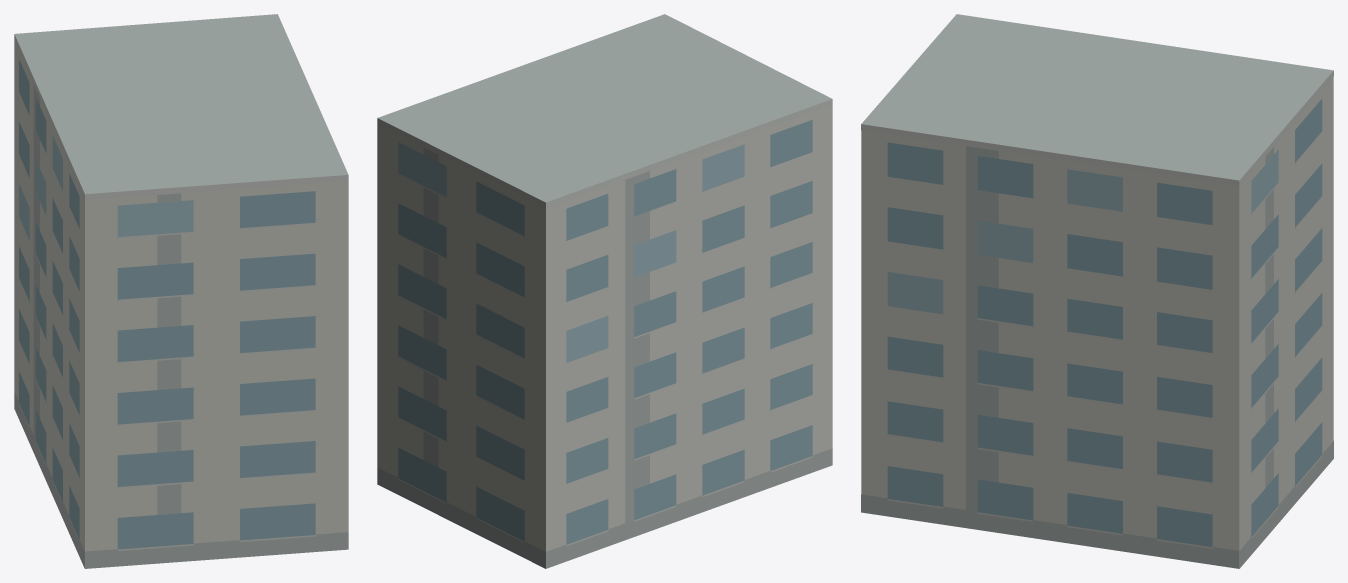
The model's file is survey-upis-32888437.glb.
3 renders of one model, left to right at view 1: azimuth 30°, elevation 25°; view 2: azimuth 150°, elevation 25°; view 3: azimuth 270°, elevation 25°, orthographic. The views are drawn at different scales.
Parts seen in each view (by area): view 1: survey-upis-32888437.tmp; view 2: survey-upis-32888437.tmp; view 3: survey-upis-32888437.tmp.
Part boxes in pixels (left/top/right/bottom): survey-upis-32888437.tmp: left=14, top=14, right=348, bottom=568; survey-upis-32888437.tmp: left=377, top=14, right=832, bottom=568; survey-upis-32888437.tmp: left=861, top=14, right=1333, bottom=568.
Size of the model in its own units: 13.67 by 14.85 by 16.39.
